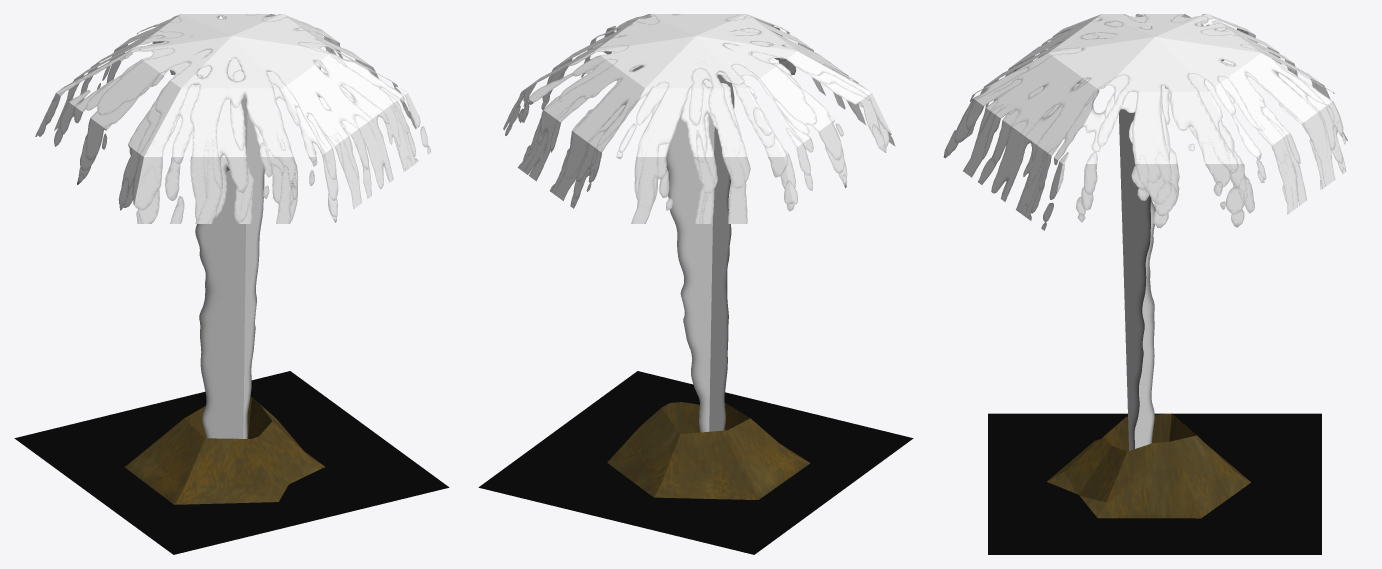
Rendered from geyser.fbx.
The picture shows the model from 3 angles, left to right: view 1: azimuth 30°, elevation 25°; view 2: azimuth 150°, elevation 25°; view 3: azimuth 270°, elevation 25°; orthographic projection. The views are drawn at different scales.
Parts seen in each view (by area): view 1: shadow, Splash_1, Splash_2, spout, hole, Splash_3, Splash_4; view 2: shadow, Splash_1, Splash_2, hole, spout, Splash_3, Splash_4; view 3: shadow, Splash_1, Splash_2, hole, spout, Splash_3, Splash_4.
Boxes of the visible parts, left/top/right/bottom form: shadow: left=14, top=371, right=449, bottom=554; Splash_1: left=37, top=14, right=420, bottom=223; Splash_2: left=35, top=14, right=428, bottom=223; spout: left=195, top=98, right=264, bottom=438; hole: left=125, top=397, right=324, bottom=504; Splash_3: left=51, top=16, right=430, bottom=223; Splash_4: left=46, top=14, right=418, bottom=223; shadow: left=478, top=371, right=913, bottom=554; Splash_1: left=503, top=14, right=891, bottom=223; Splash_2: left=509, top=14, right=893, bottom=223; hole: left=607, top=402, right=809, bottom=499; spout: left=666, top=74, right=734, bottom=432; Splash_3: left=505, top=14, right=895, bottom=223; Splash_4: left=518, top=14, right=888, bottom=210; shadow: left=988, top=413, right=1321, bottom=554; Splash_1: left=943, top=14, right=1345, bottom=222; Splash_2: left=963, top=14, right=1348, bottom=222; hole: left=1047, top=413, right=1250, bottom=518; spout: left=1119, top=109, right=1155, bottom=450; Splash_3: left=954, top=14, right=1342, bottom=230; Splash_4: left=946, top=14, right=1343, bottom=223.
Size of the model in its own units: 4.49 by 6.02 by 5.19.
Materials: 7 (7 with a texture image).
